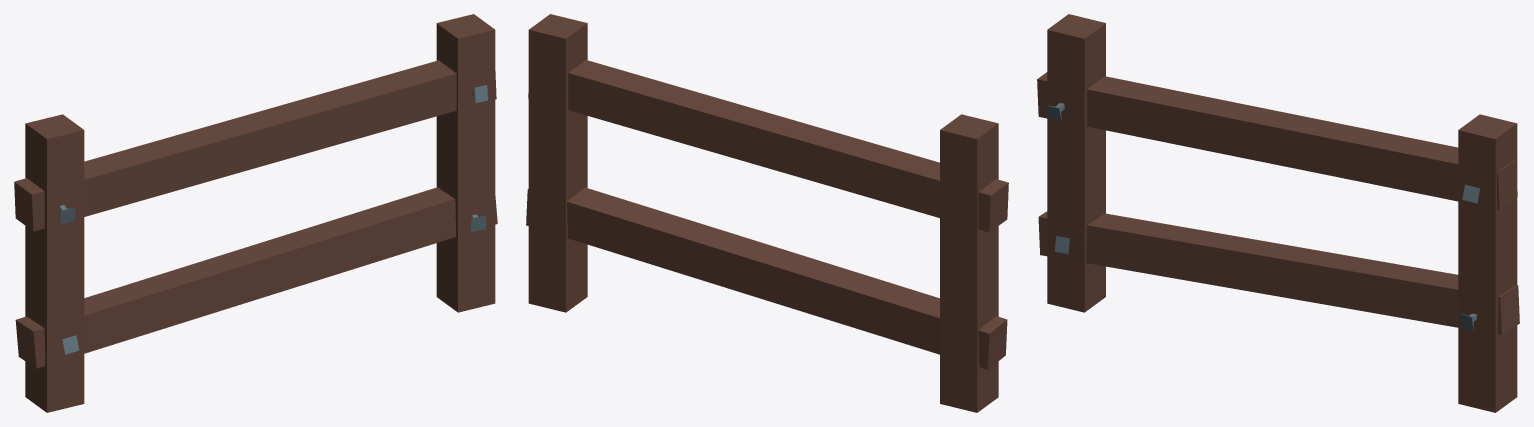
3 views of the same model, side by side, from view 1: azimuth 30°, elevation 25°; view 2: azimuth 150°, elevation 25°; view 3: azimuth 330°, elevation 25° (orthographic).
Visible parts, largest first — view 1: node_MeshObject836591616-PolyPaper21; view 2: node_MeshObject836591616-PolyPaper21; view 3: node_MeshObject836591616-PolyPaper21.
Boxes of the visible parts, box(x1,y1,x2,y2) form: node_MeshObject836591616-PolyPaper21: box(14, 14, 497, 412); node_MeshObject836591616-PolyPaper21: box(526, 14, 1008, 412); node_MeshObject836591616-PolyPaper21: box(1037, 14, 1519, 412).
Bounding box in the file's own units: 0.9961 × 0.56 × 0.1113.
